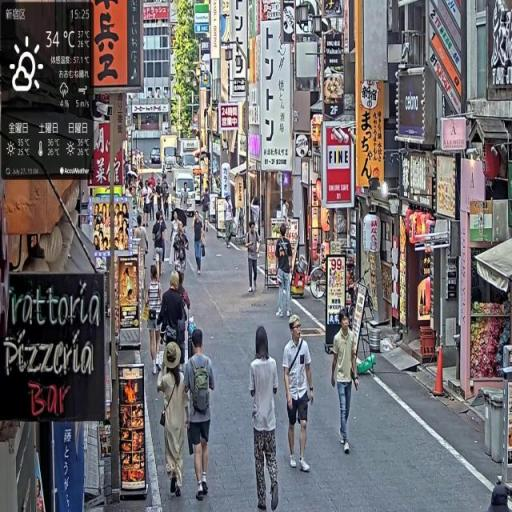person: (250, 325, 283, 512), (183, 327, 218, 501), (158, 339, 190, 501), (284, 316, 315, 475), (330, 312, 361, 455), (157, 272, 189, 374), (148, 263, 165, 374), (244, 220, 261, 296), (153, 211, 168, 280), (193, 210, 207, 277)
